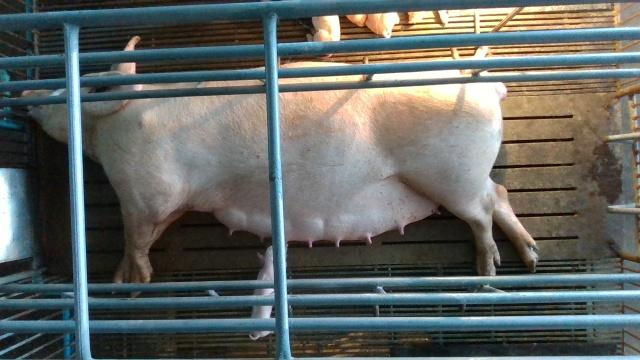piglet: (251, 244, 288, 340), (305, 15, 342, 59)
sow-sleep-lactate: (21, 39, 539, 293)
